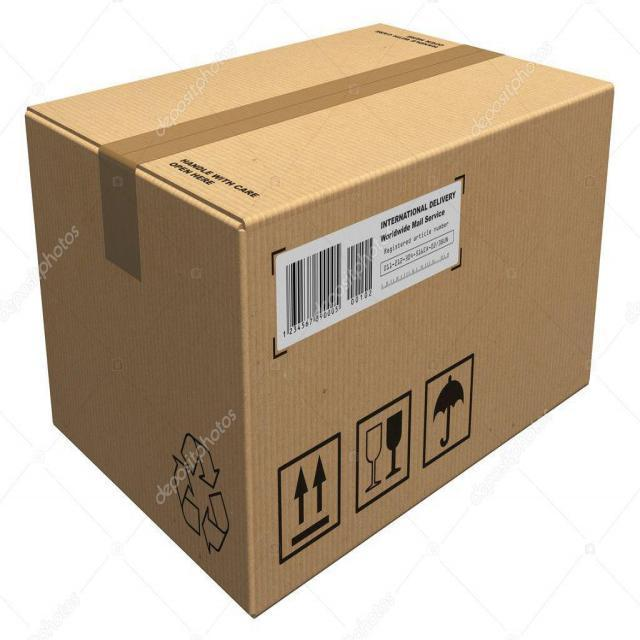box: (27, 15, 617, 619)
